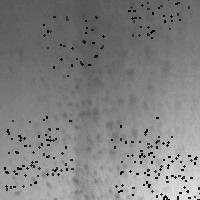pitted_surface: (14, 6, 168, 199), (43, 16, 102, 75), (11, 116, 71, 174), (4, 128, 61, 188), (111, 139, 168, 199), (144, 154, 200, 200), (120, 117, 171, 167), (128, 0, 188, 37), (151, 161, 200, 200)
